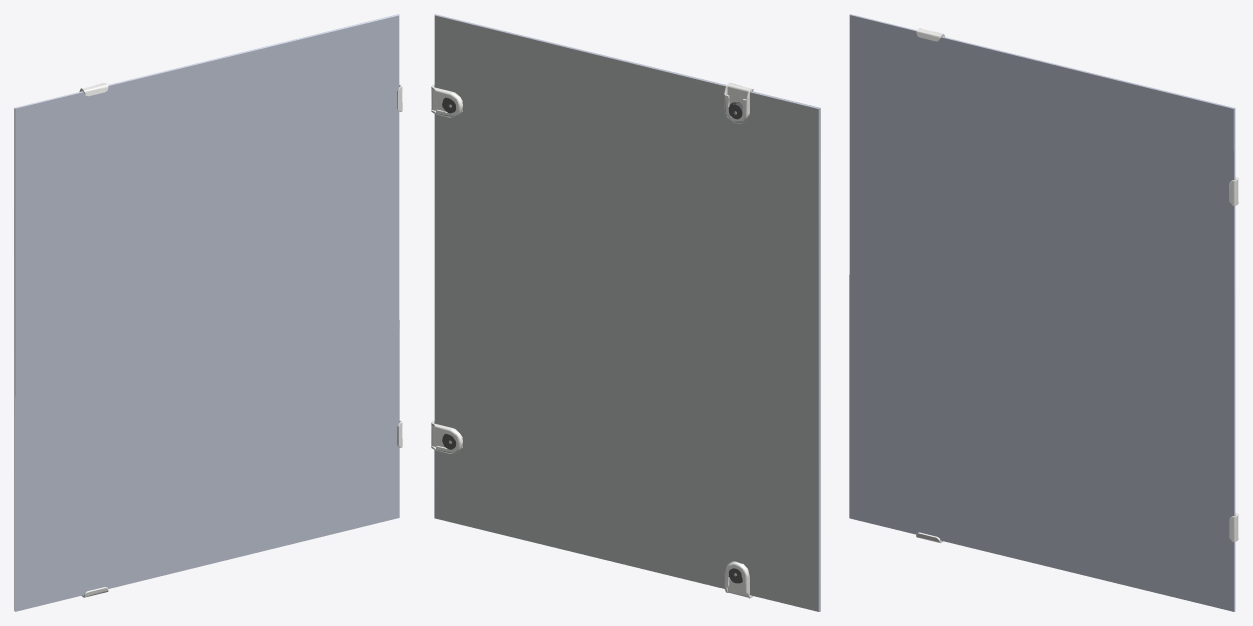
Rendered from larbro_lustro_40601778.glb.
The picture shows the model from 3 angles, left to right: view 1: azimuth 30°, elevation 25°; view 2: azimuth 150°, elevation 25°; view 3: azimuth 330°, elevation 25°; orthographic projection.
Parts seen in each view (by area): view 1: larbro_lustro_40601778; view 2: larbro_lustro_40601778; view 3: larbro_lustro_40601778.
Boxes of the visible parts, x1,y1,x2,y2 form: larbro_lustro_40601778: [14, 14, 402, 611]; larbro_lustro_40601778: [431, 14, 820, 611]; larbro_lustro_40601778: [849, 14, 1238, 611].
Bounding box in the file's own units: 0.4829 × 0.605 × 0.0151.
2 materials, 2 textured.
